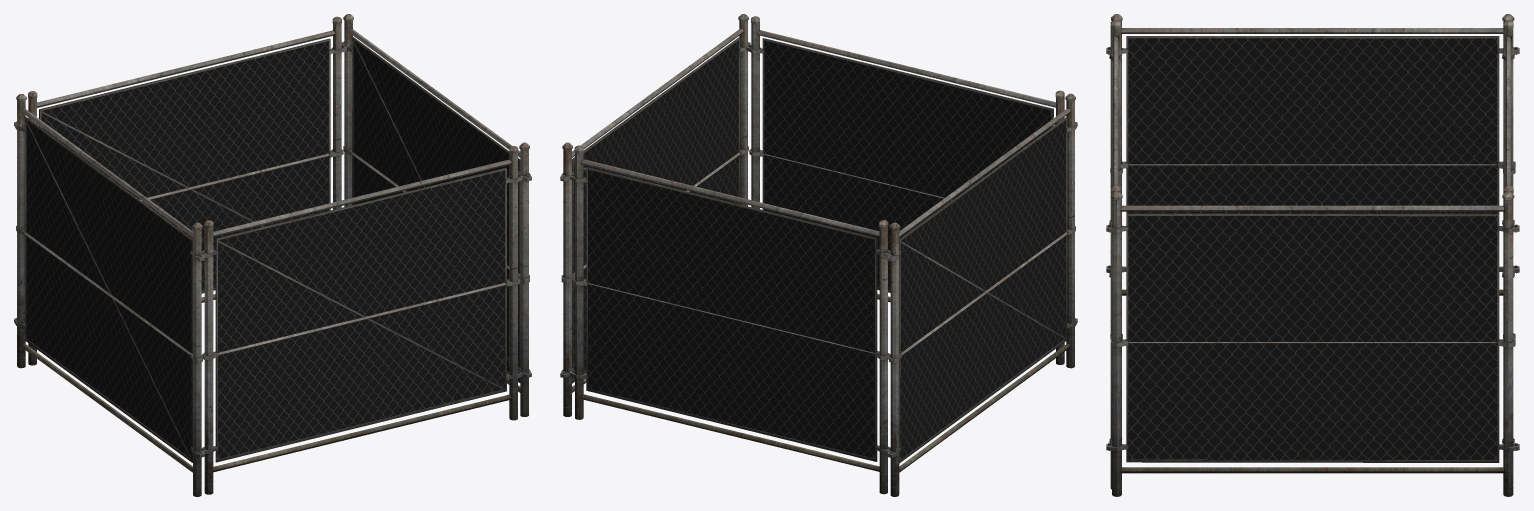
File: Fence fbx.fbx
3 views of the same model, side by side, from view 1: azimuth 30°, elevation 25°; view 2: azimuth 150°, elevation 25°; view 3: azimuth 270°, elevation 25° (orthographic). The views are drawn at different scales.
Parts seen in each view (by area): view 1: Body_fence01a_reference_smd_mesh_1_2, Body_fence01a_reference_smd_mesh_1, Body_fence01a_reference_smd_mesh_1_3, Body_fence01a_reference_smd_mesh_0_2, Body_fence01a_reference_smd_mesh_1_4, Body_fence01a_reference_smd_mesh_0, Body_fence01a_reference_smd_mesh_0_4, Body_fence01a_reference_smd_mesh_0_3; view 2: Body_fence01a_reference_smd_mesh_1_3, Body_fence01a_reference_smd_mesh_1, Body_fence01a_reference_smd_mesh_1_2, Body_fence01a_reference_smd_mesh_1_4, Body_fence01a_reference_smd_mesh_0_3, Body_fence01a_reference_smd_mesh_0, Body_fence01a_reference_smd_mesh_0_4, Body_fence01a_reference_smd_mesh_0_2; view 3: Body_fence01a_reference_smd_mesh_1_4, Body_fence01a_reference_smd_mesh_1, Body_fence01a_reference_smd_mesh_0_4, Body_fence01a_reference_smd_mesh_0, Body_fence01a_reference_smd_mesh_0_2, Body_fence01a_reference_smd_mesh_0_3.
Boxes of the visible parts, left/top/right/bottom form: Body_fence01a_reference_smd_mesh_1_2: left=218, top=170, right=504, bottom=459; Body_fence01a_reference_smd_mesh_1: left=26, top=120, right=191, bottom=458; Body_fence01a_reference_smd_mesh_1_3: left=41, top=41, right=328, bottom=290; Body_fence01a_reference_smd_mesh_0_2: left=201, top=146, right=522, bottom=494; Body_fence01a_reference_smd_mesh_1_4: left=353, top=40, right=518, bottom=372; Body_fence01a_reference_smd_mesh_0: left=14, top=94, right=204, bottom=496; Body_fence01a_reference_smd_mesh_0_4: left=341, top=14, right=531, bottom=416; Body_fence01a_reference_smd_mesh_0_3: left=28, top=16, right=346, bottom=365; Body_fence01a_reference_smd_mesh_1_3: left=588, top=169, right=874, bottom=458; Body_fence01a_reference_smd_mesh_1: left=900, top=120, right=1065, bottom=459; Body_fence01a_reference_smd_mesh_1_2: left=764, top=40, right=1051, bottom=290; Body_fence01a_reference_smd_mesh_1_4: left=573, top=40, right=738, bottom=379; Body_fence01a_reference_smd_mesh_0_3: left=569, top=145, right=890, bottom=494; Body_fence01a_reference_smd_mesh_0: left=887, top=93, right=1077, bottom=496; Body_fence01a_reference_smd_mesh_0_4: left=560, top=14, right=750, bottom=416; Body_fence01a_reference_smd_mesh_0_2: left=746, top=16, right=1064, bottom=364; Body_fence01a_reference_smd_mesh_1_4: left=1128, top=216, right=1497, bottom=459; Body_fence01a_reference_smd_mesh_1: left=1128, top=38, right=1497, bottom=213; Body_fence01a_reference_smd_mesh_0_4: left=1106, top=191, right=1519, bottom=496; Body_fence01a_reference_smd_mesh_0: left=1106, top=14, right=1519, bottom=295; Body_fence01a_reference_smd_mesh_0_2: left=1109, top=20, right=1122, bottom=489; Body_fence01a_reference_smd_mesh_0_3: left=1502, top=20, right=1515, bottom=443.
Size of the model in its own units: 141 by 109 by 135.
Materials: 2 (2 with a texture image).
